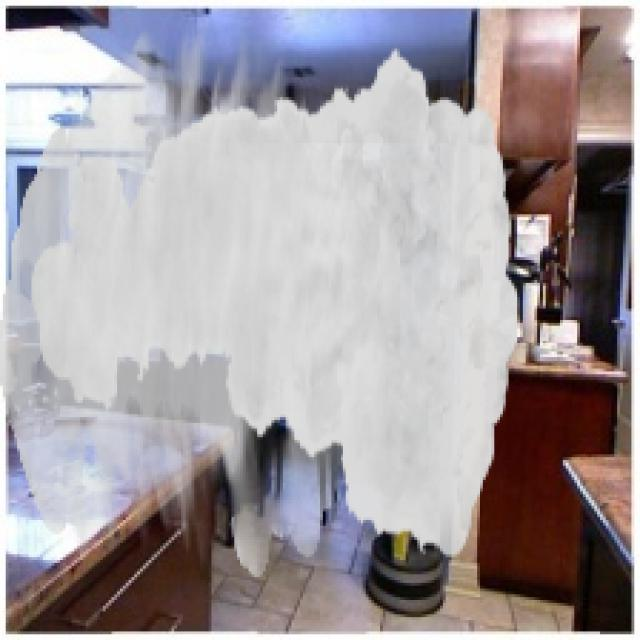smoke: (0, 26, 520, 577)
